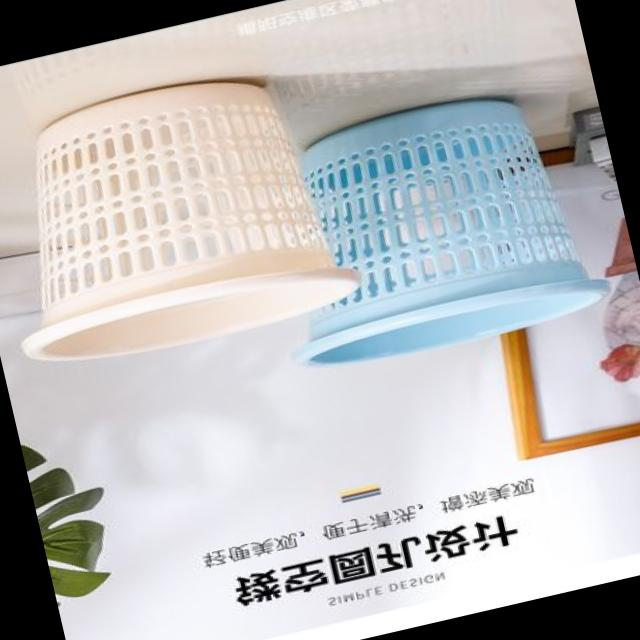dustbin: (0, 44, 374, 385), (245, 69, 622, 382)
